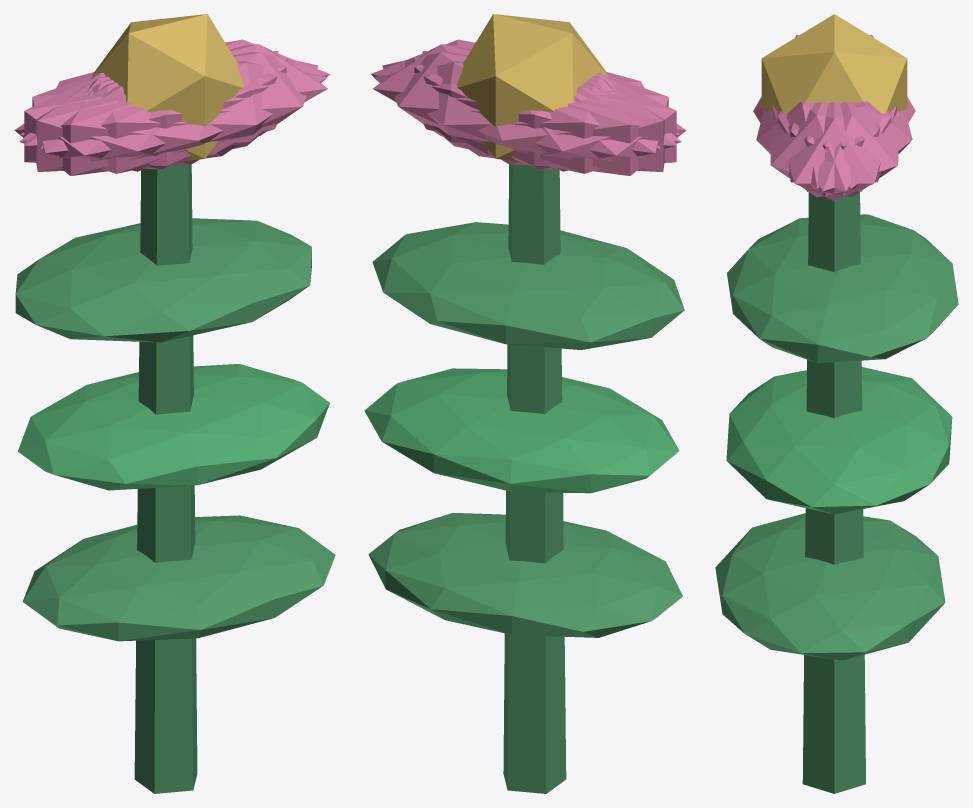
The model's file is morus-indica.glb.
The picture shows the model from 3 angles, left to right: view 1: azimuth 30°, elevation 25°; view 2: azimuth 150°, elevation 25°; view 3: azimuth 270°, elevation 25°; orthographic projection.
Parts seen in each view (by area): view 1: leaf0, leaf2, leaf1, stem, center, petal1, petal6, petal2, petal5, petal7, petal0, petal4 (+2 smaller); view 2: leaf2, leaf1, leaf0, stem, center, petal8, petal3, petal7, petal4, petal2, petal0, petal5 (+2 smaller); view 3: leaf2, leaf1, leaf0, stem, center, petal0, petal5, petal4, petal1, petal8.
Part boxes in pixels (x1,y1,x2,y2): leaf0: [22, 515, 335, 641]; leaf2: [15, 218, 311, 342]; leaf1: [18, 364, 329, 490]; stem: [134, 164, 197, 793]; center: [92, 14, 243, 161]; petal1: [19, 60, 327, 173]; petal6: [14, 74, 237, 175]; petal2: [36, 51, 278, 171]; petal5: [40, 52, 318, 166]; petal7: [24, 57, 287, 169]; petal0: [92, 44, 327, 155]; petal4: [20, 39, 329, 145]; leaf2: [372, 222, 684, 349]; leaf1: [364, 368, 679, 493]; leaf0: [368, 512, 682, 637]; stem: [503, 164, 566, 793]; center: [457, 14, 608, 161]; petal8: [373, 60, 681, 173]; petal3: [463, 74, 686, 175]; petal7: [422, 51, 664, 171]; petal4: [382, 52, 660, 165]; petal2: [413, 57, 676, 169]; petal0: [373, 44, 608, 155]; petal5: [370, 39, 679, 145]; leaf2: [727, 214, 958, 363]; leaf1: [726, 367, 952, 514]; leaf0: [715, 513, 945, 660]; stem: [802, 192, 865, 793]; center: [761, 14, 907, 113]; petal0: [772, 101, 896, 200]; petal5: [770, 101, 891, 197]; petal4: [777, 101, 898, 197]; petal1: [756, 101, 880, 188]; petal8: [788, 101, 912, 188].
Size of the model in its own units: 0.1452 by 0.3467 by 0.1024.
